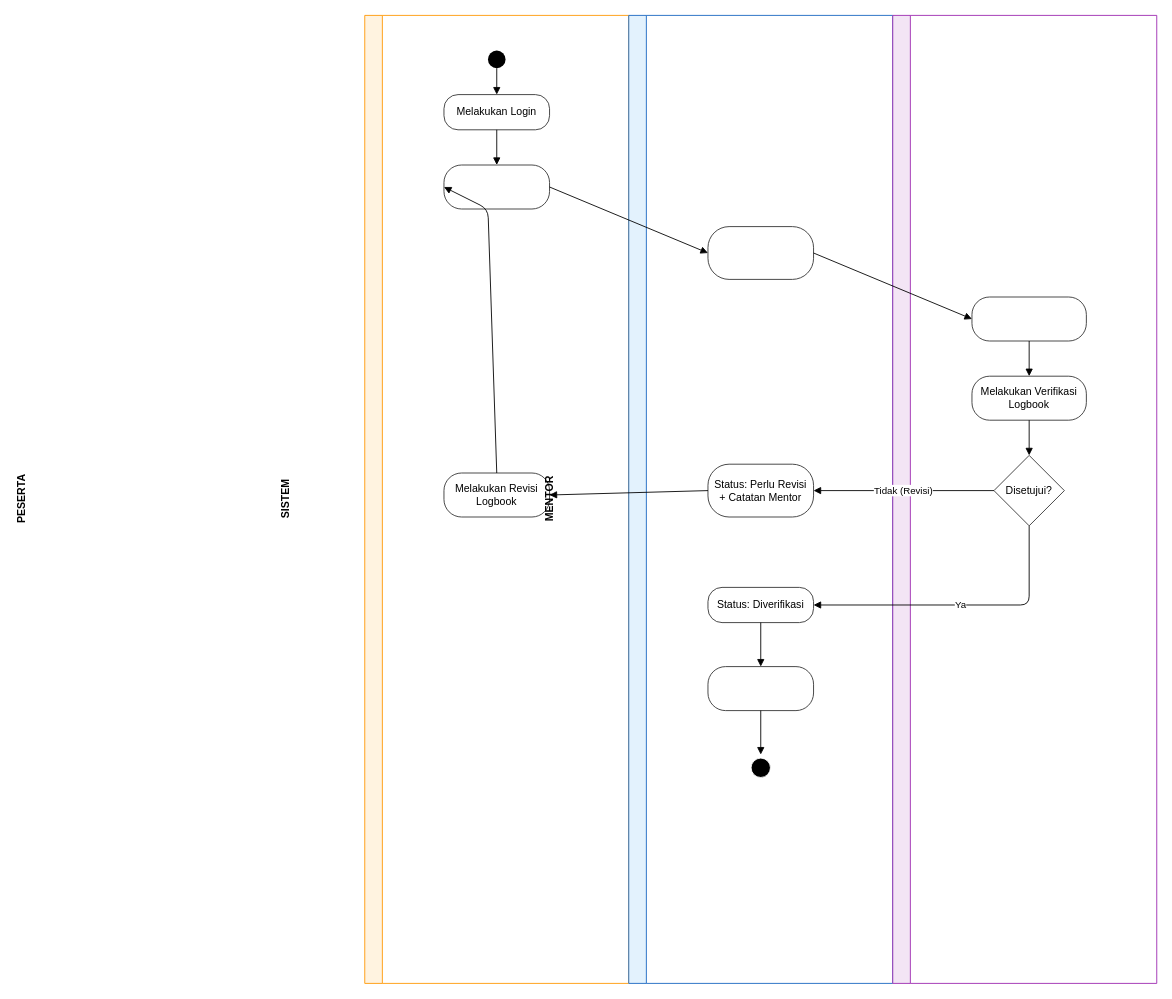
This 1172x999 diagram has some shape labels left out. The shapes that lost their labels are listed below. From the top down, each one's centre as x and y in pixels, then its label:
At pixel 496 186: "Mengisi Form Logbook Harian".
At pixel 760 252: "Menyimpan Logbook dan Set Status 'Dikirim'".
At pixel 1028 318: "Melihat Daftar Logbook Bimbingan".
At pixel 760 688: "Logbook Masuk ke Rekap Laporan".
